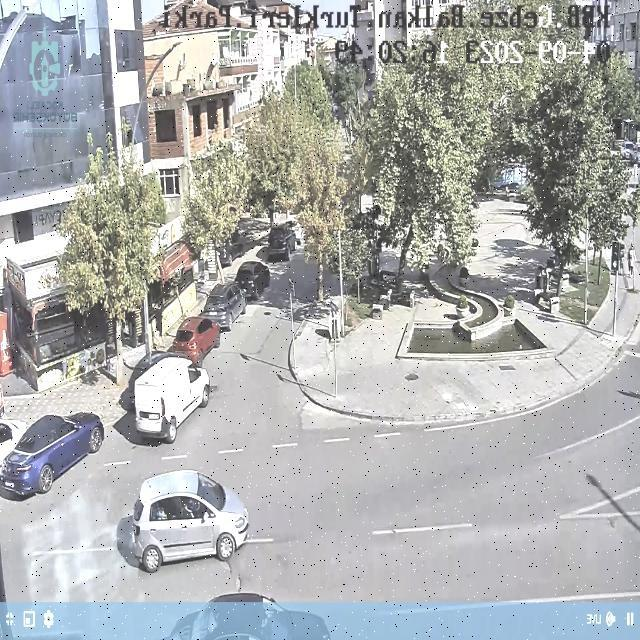Car: (132, 470, 247, 576), (0, 407, 103, 497), (165, 590, 336, 640), (200, 279, 243, 328), (172, 313, 217, 357), (235, 260, 268, 298)
Van: (132, 358, 207, 443)
